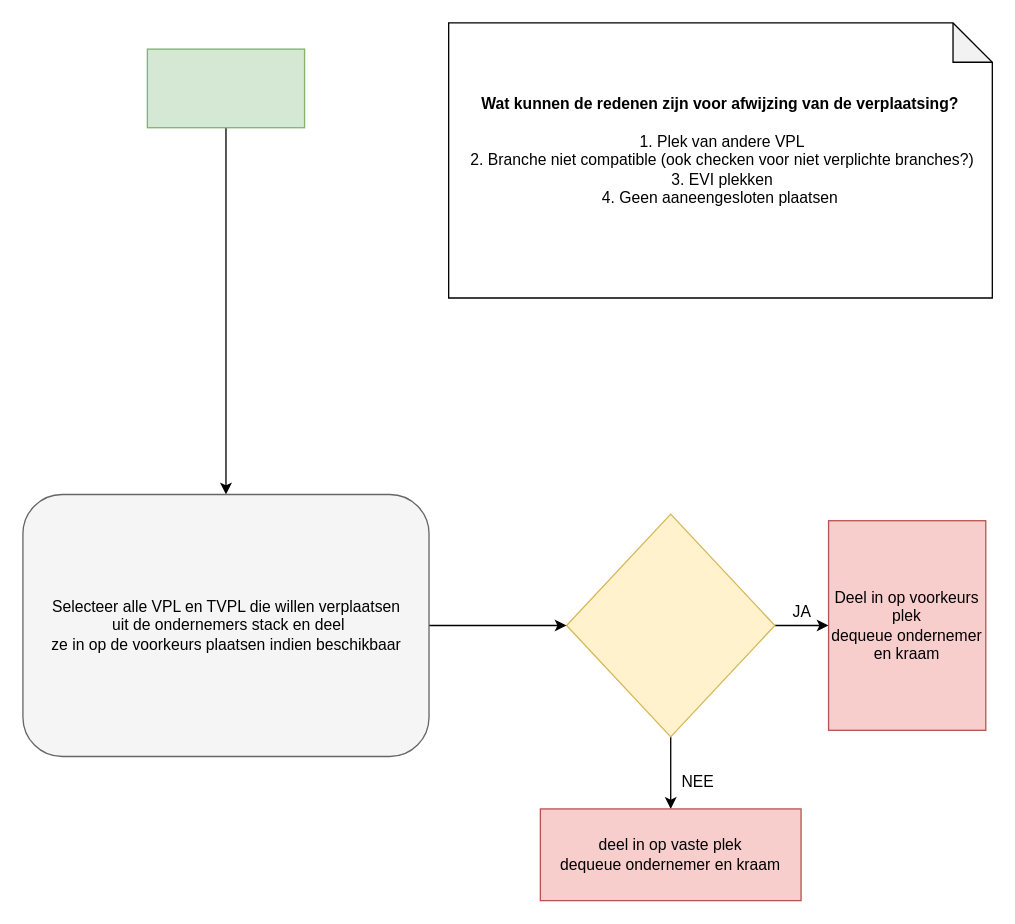
Some shapes in this 1015 by 924 pixel diagram are drawn without their labels. The centre of each missing label's shape, as x and y in pixels:
FASE 3 VPL en TVPL + verplaatsen: point (225, 88)
Verplaatsing toegestaan?: point (670, 625)
